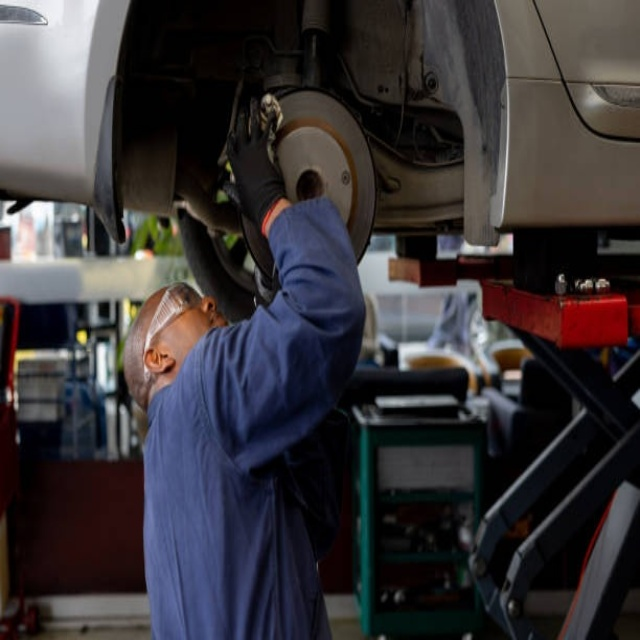Gafas: (143, 285, 194, 382)
Guantes: (222, 101, 288, 243)
Sin_mascara: (197, 296, 231, 331)
